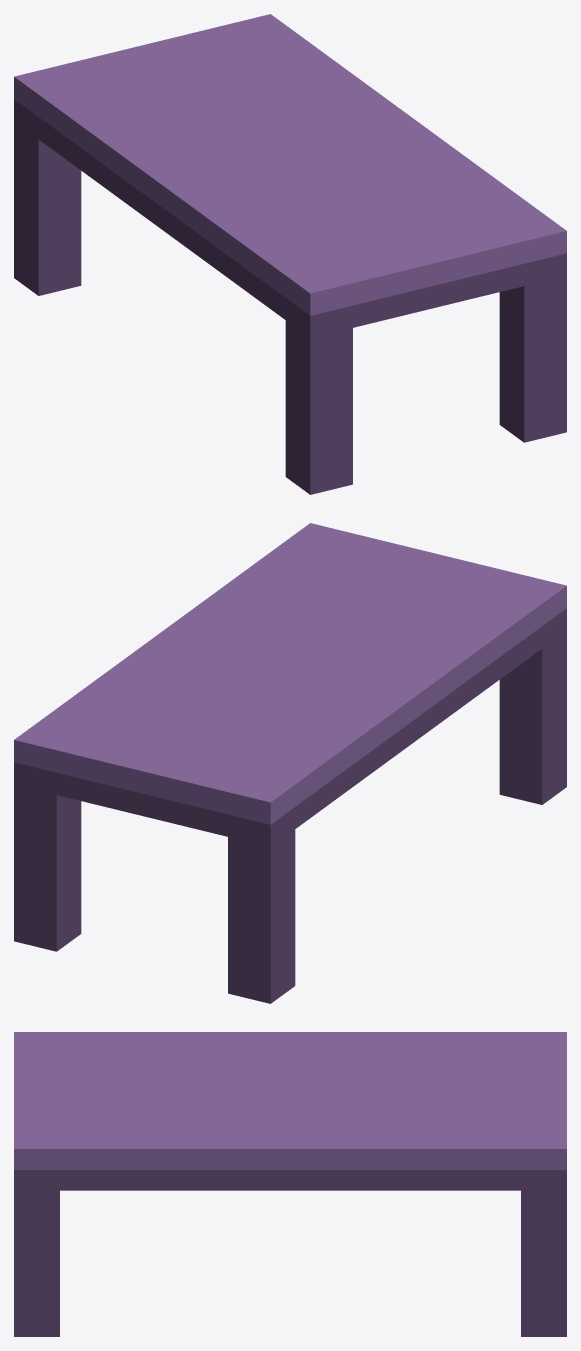
File: mesa_encantamiento_armas_01.glb
The picture shows the model from 3 angles, top to bottom: view 1: azimuth 30°, elevation 25°; view 2: azimuth 150°, elevation 25°; view 3: azimuth 270°, elevation 25°; orthographic projection. The views are drawn at different scales.
Visible parts, largest first — view 1: mesa_encantamiento_armas; view 2: mesa_encantamiento_armas; view 3: mesa_encantamiento_armas.
Part boxes in pixels (x1,y1,x2,y2): mesa_encantamiento_armas: (14, 14, 566, 494); mesa_encantamiento_armas: (14, 523, 566, 1003); mesa_encantamiento_armas: (14, 1032, 566, 1336).
Size of the model in its own units: 1 by 0.75 by 2.
